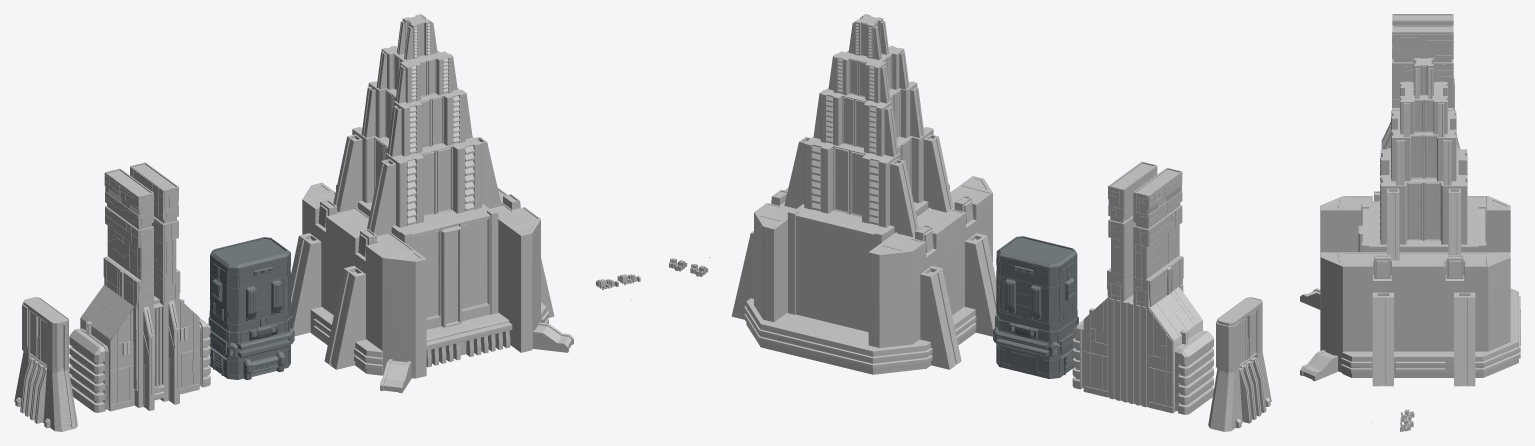
File: ChuckBuildings.fbx
3 views of the same model, side by side, from view 1: azimuth 30°, elevation 25°; view 2: azimuth 150°, elevation 25°; view 3: azimuth 270°, elevation 25° (orthographic). The views are drawn at different scales.
Parts seen in each view (by area): view 1: building 4, building 2, building 1, building 3; view 2: building 4, building 2, building 1, building 3; view 3: building 4, building 2.
Part boxes in pixels (x1,y1,x2,y2): building 4: [290, 14, 573, 393]; building 2: [69, 162, 210, 412]; building 1: [208, 237, 294, 379]; building 3: [14, 297, 77, 431]; building 4: [731, 14, 996, 374]; building 2: [1072, 161, 1213, 414]; building 1: [993, 236, 1078, 378]; building 3: [1208, 297, 1271, 431]; building 4: [1300, 58, 1520, 386]; building 2: [1381, 14, 1453, 149].
Bounding box in the file's own units: 94.82 × 45.95 × 33.2.
